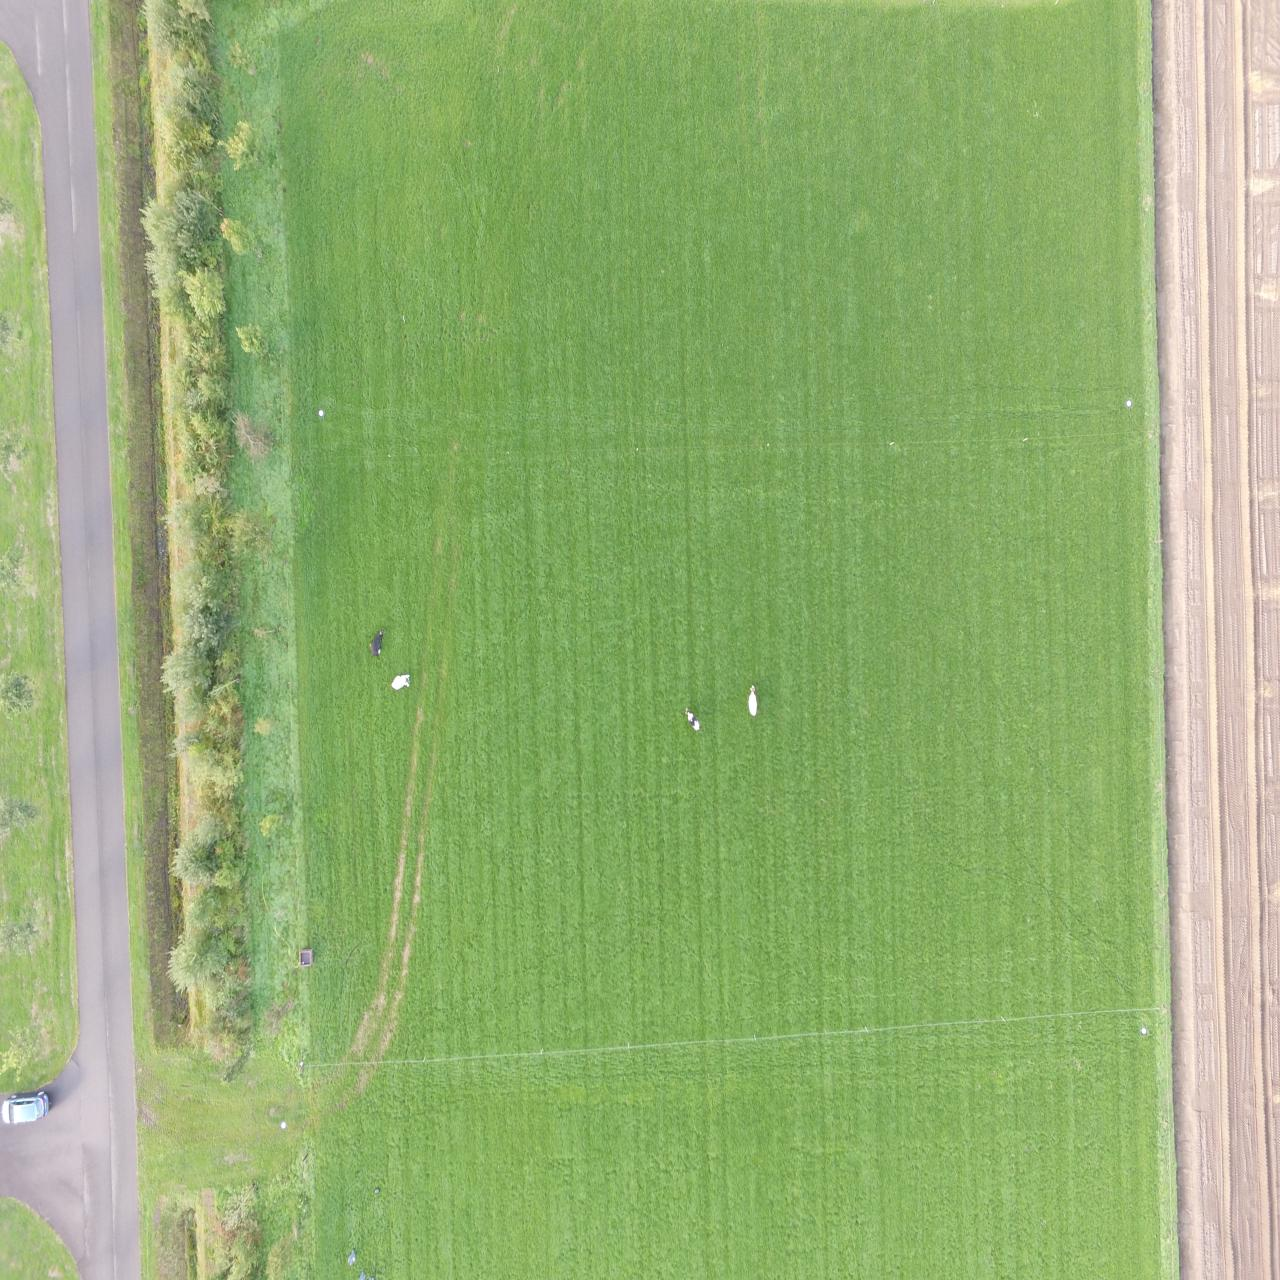cow: (369, 626, 386, 660), (683, 707, 702, 731), (748, 683, 756, 717), (392, 673, 408, 689)
